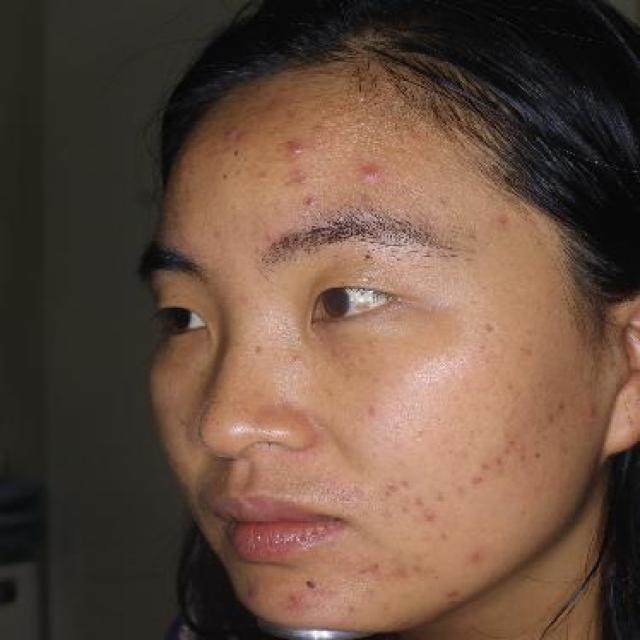nodules: (347, 157, 388, 191), (271, 134, 320, 158), (296, 194, 322, 212)
